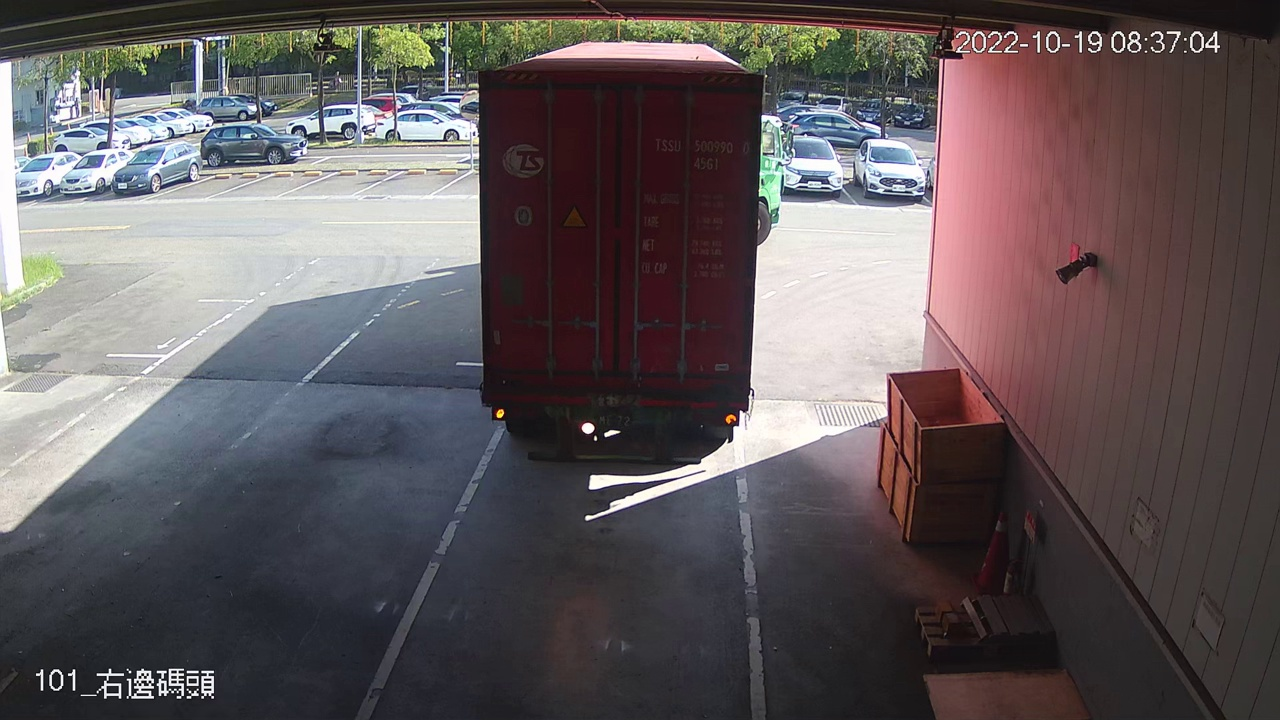container: (646, 130, 753, 174)
